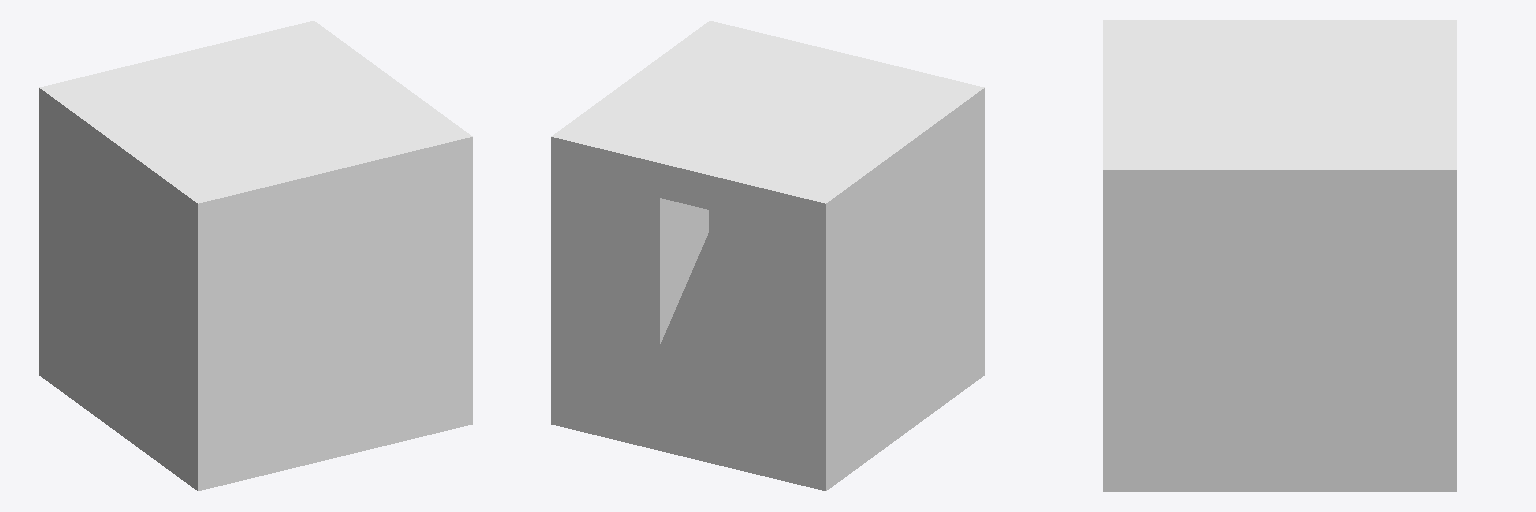
The robot description file, URDF, robot "Arrow_cube_bottle":
<?xml version="1.0" ?>
<robot name="Arrow_cube_bottle">
  <link name="baseLink">
    <contact>
    	<friction_anchor/>
    	   <lateral_friction value="1.0"/>
    </contact>
    <inertial>
      <origin rpy="0 0 0" xyz="0 0 0"/>
       <!-- mass controls penetration -->
       <mass value=".5"/>
       <inertia ixx="1e-4" ixy="0" ixz="0" iyy="1e-4" iyz="0" izz="1e-4"/>
    </inertial>
    <visual>
      <origin rpy="0 0 0" xyz="0 0 0"/>
      <geometry>
        <mesh filename="Arrow_cube_bottle.obj"/>
      </geometry>
       <material name="white">
        <color rgba="1 1 1 1"/>
      </material>
    </visual>
    <collision>
      <origin rpy="0 0 0" xyz="0 0 0"/>
      <geometry>
        <mesh filename="Arrow_cube_bottle.obj"/>
      </geometry>
    </collision>
  </link>
</robot>

--- What the picture shows (computed from the rendered views, not written in the file) ---
3 views of the same robot in one strip: view 1: azimuth 30°, elevation 25°; view 2: azimuth 150°, elevation 25°; view 3: azimuth 270°, elevation 25° (orthographic).
Model Arrow_cube_bottle with 1 links and 0 joints (none), rooted at baseLink, posed every joint at zero.
Links seen in each view (by area): view 1: baseLink; view 2: baseLink; view 3: baseLink.
Link boxes in pixels (x1,y1,x2,y2): baseLink: (39, 21, 472, 490); baseLink: (551, 21, 984, 490); baseLink: (1103, 20, 1456, 491).
Bounding box of the posed robot: 0.08 × 0.08 × 0.08 m (x, y, z).
Meshes: 1 distinct files referenced, 1 mesh visuals loaded (1 OBJ).